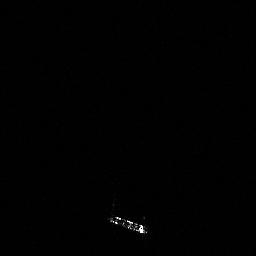ship: (105, 210, 151, 238)
